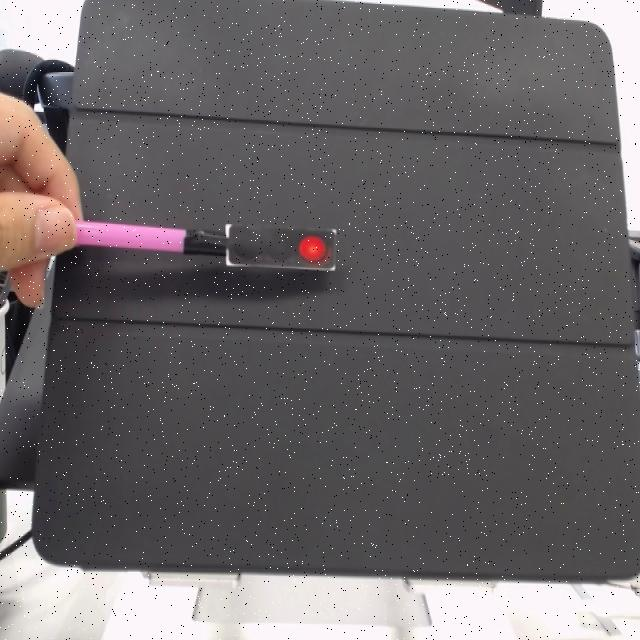traffic light: (233, 225, 338, 272)
